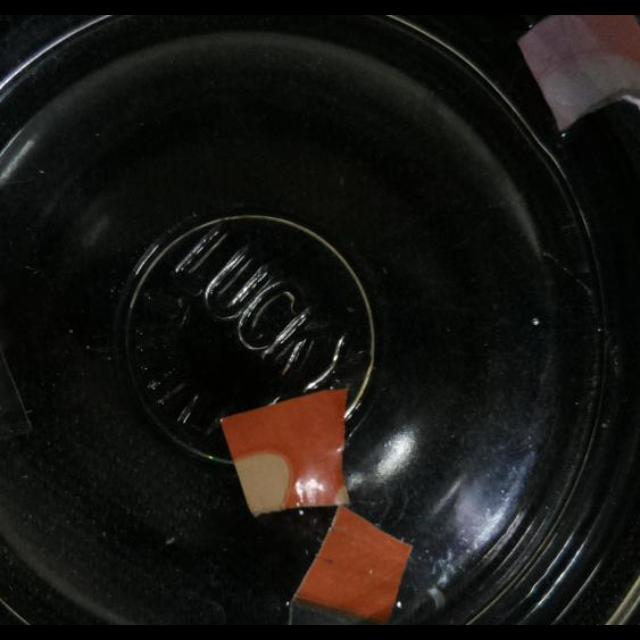Fragment: (218, 389, 352, 518), (291, 505, 413, 623), (522, 15, 636, 129)
